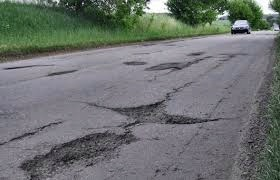pothole: (19, 134, 159, 171), (95, 98, 221, 128), (142, 59, 198, 71), (1, 61, 50, 68), (45, 67, 84, 74), (220, 51, 248, 56), (122, 59, 145, 64), (187, 49, 201, 54), (216, 56, 227, 61)
